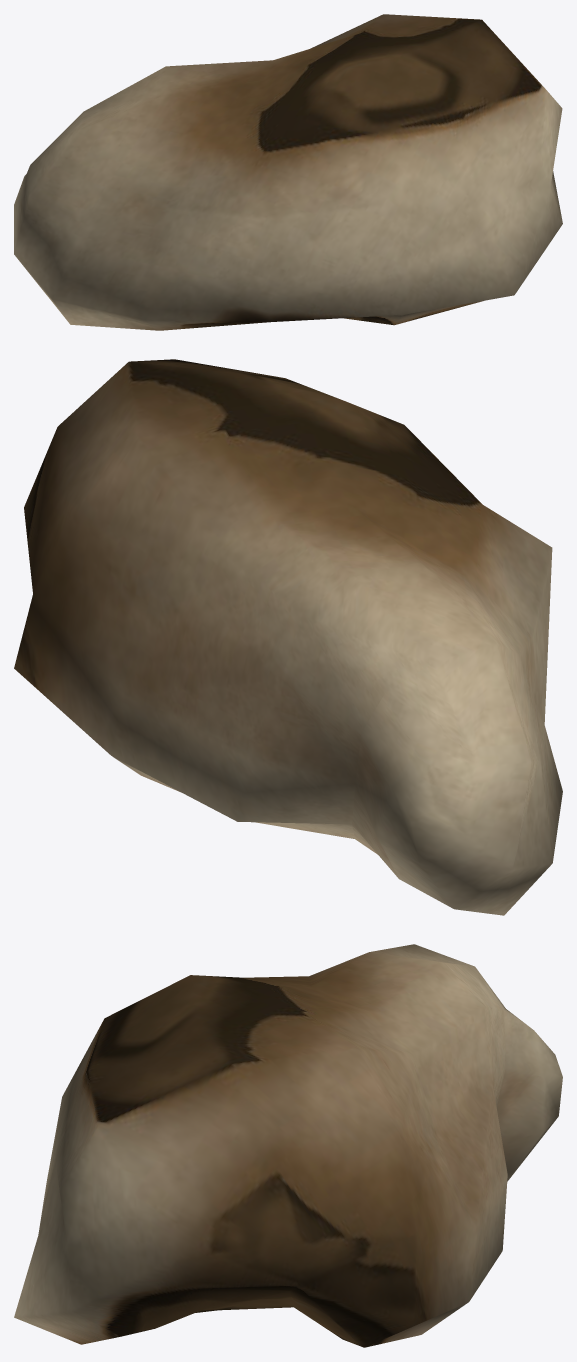
Rendered from Radial.glb.
3 views of the same model, one above another, from view 1: azimuth 30°, elevation 25°; view 2: azimuth 150°, elevation 25°; view 3: azimuth 270°, elevation 25° (orthographic). The views are drawn at different scales.
Parts seen in each view (by area): view 1: Radial_Left1:Group51213; view 2: Radial_Left1:Group51213; view 3: Radial_Left1:Group51213.
Part boxes in pixels (x1=…): Radial_Left1:Group51213: x1=14, y1=14, x2=562, y2=330; Radial_Left1:Group51213: x1=14, y1=359, x2=562, y2=915; Radial_Left1:Group51213: x1=14, y1=944, x2=562, y2=1347.
Bounding box in the file's own units: 19.83 × 12.06 × 16.02.
Materials: 1 (1 with a texture image).
